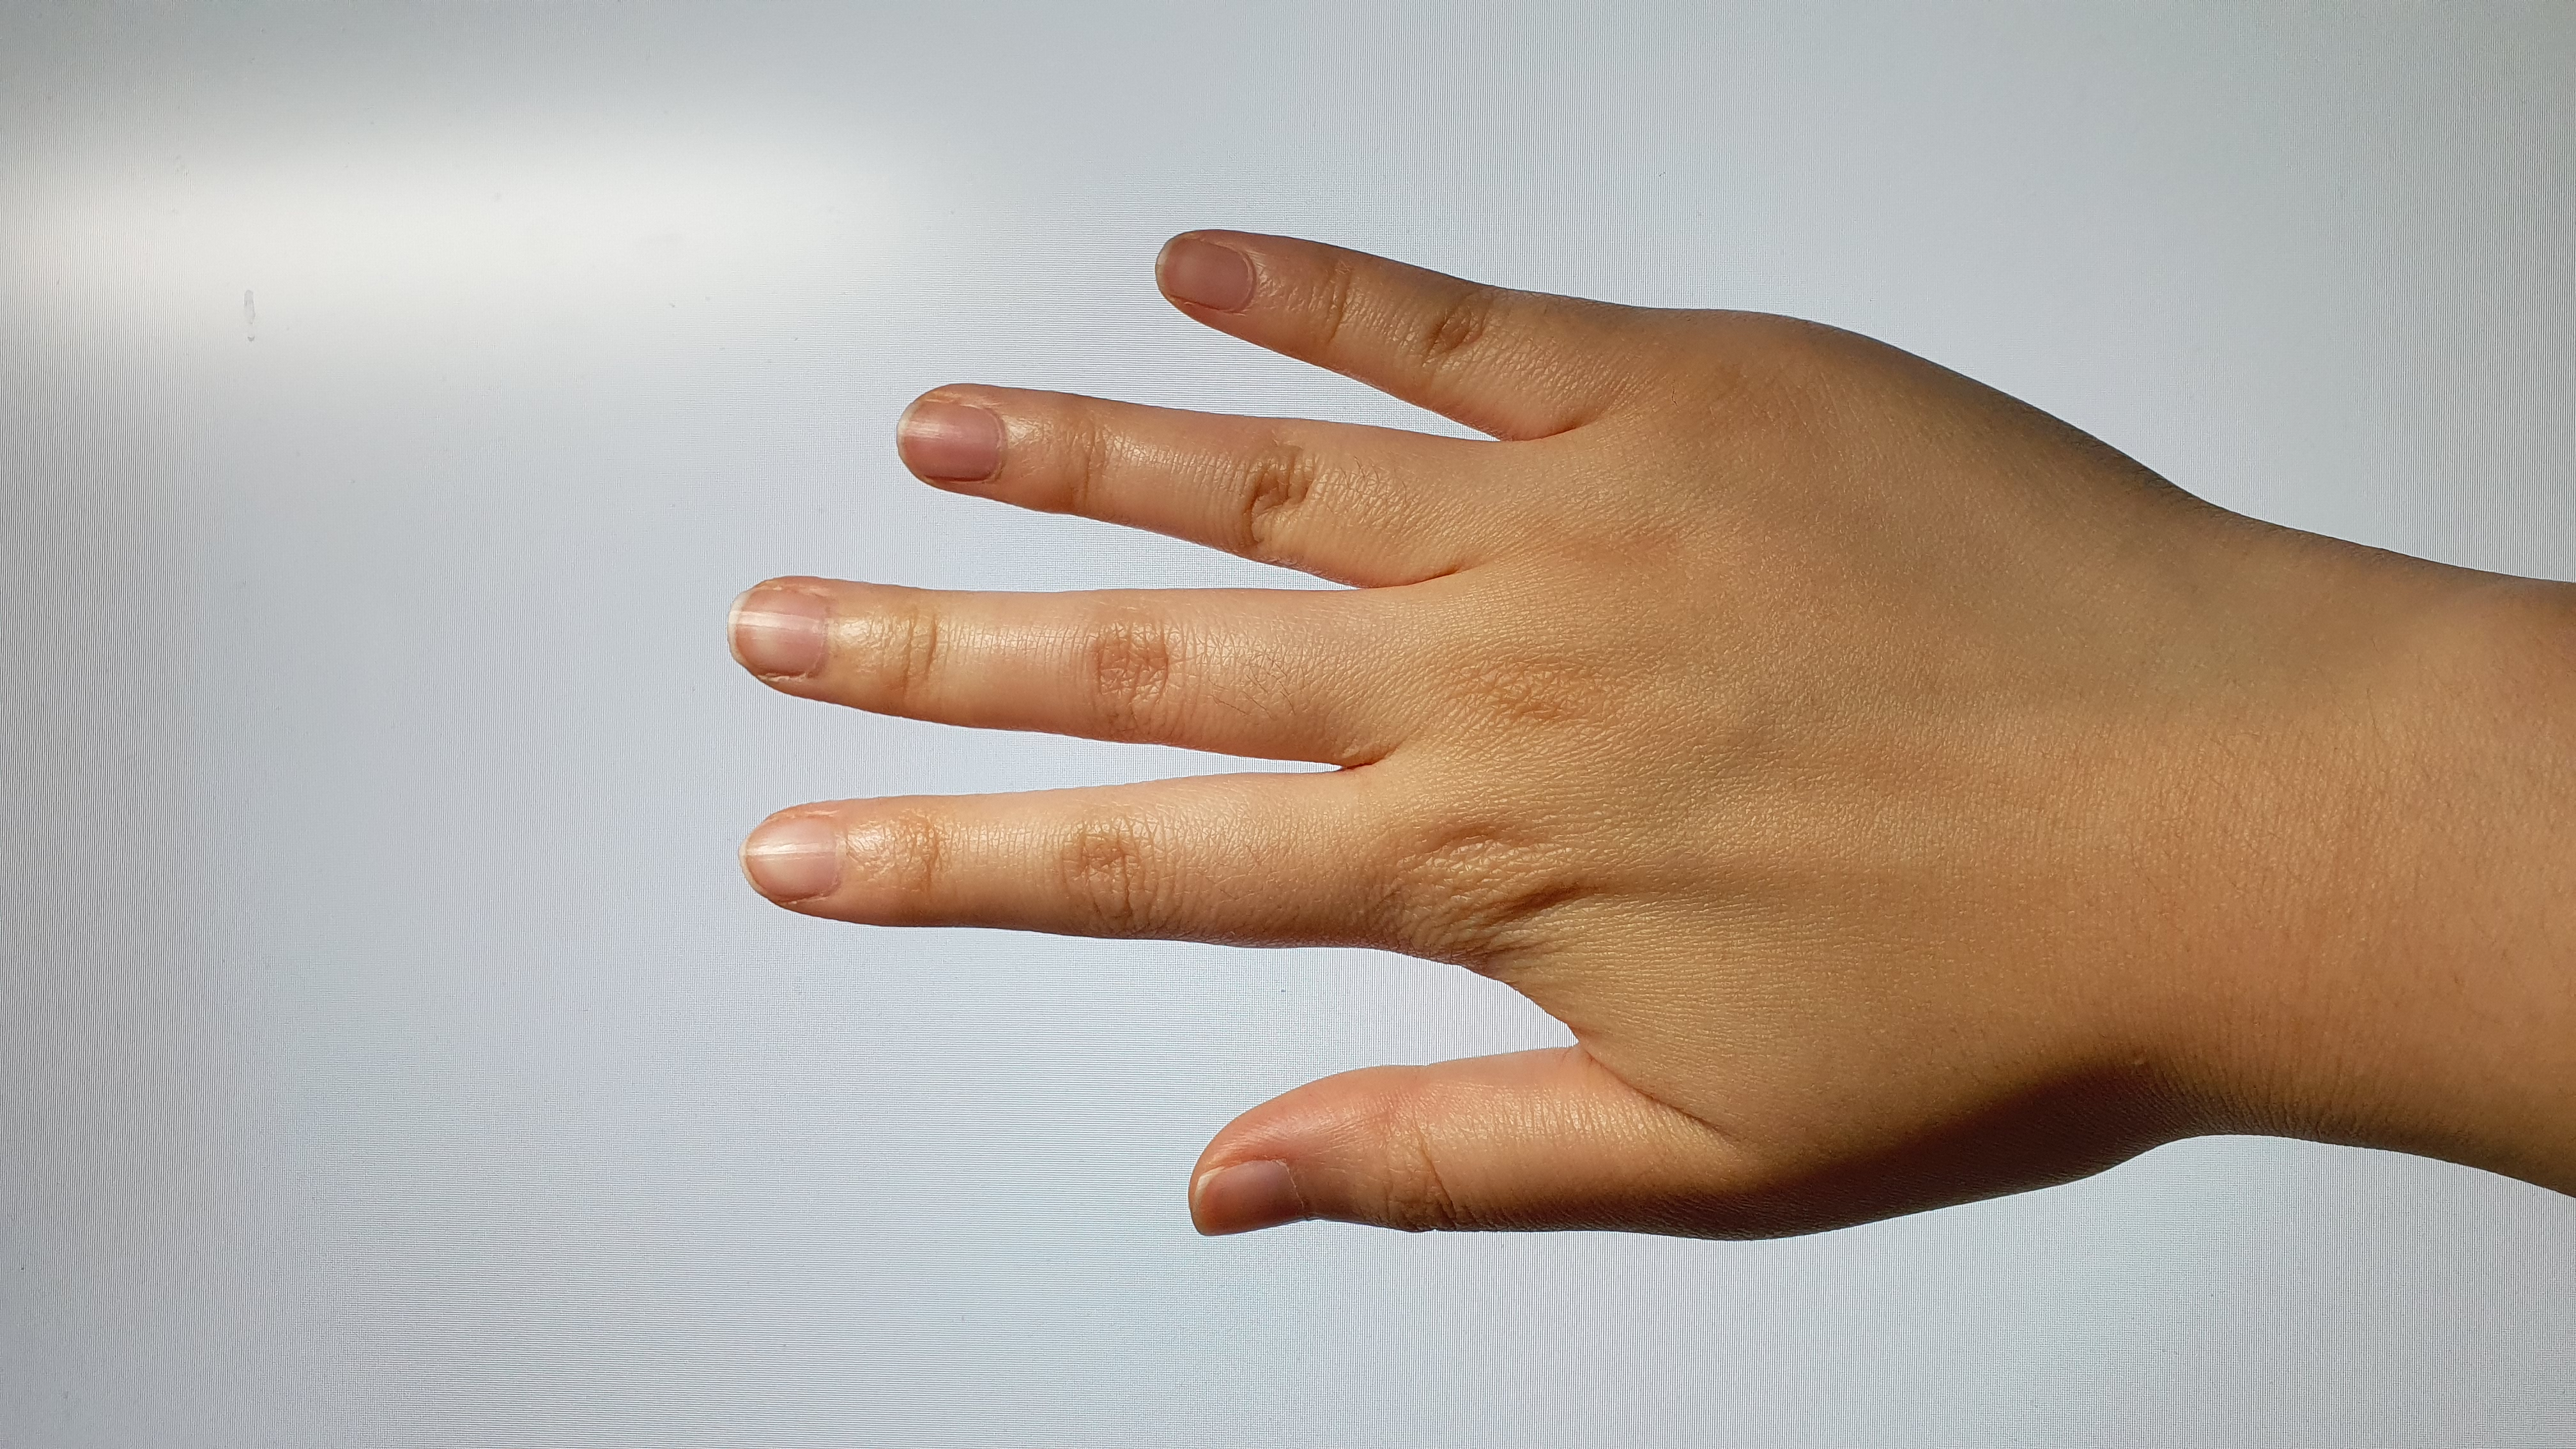backhand: (1447, 366, 2187, 1118)
hand: (708, 212, 2226, 1261)
index finger: (745, 763, 1451, 973)
middle finger: (720, 564, 1392, 775)
pinky: (1152, 221, 1599, 458)
ring finger: (890, 375, 1465, 580)
thumb: (1173, 1046, 1727, 1267)
